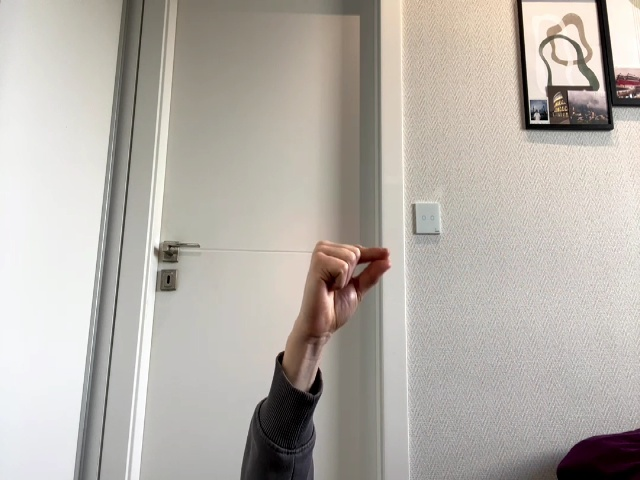P: (296, 240, 391, 343)
